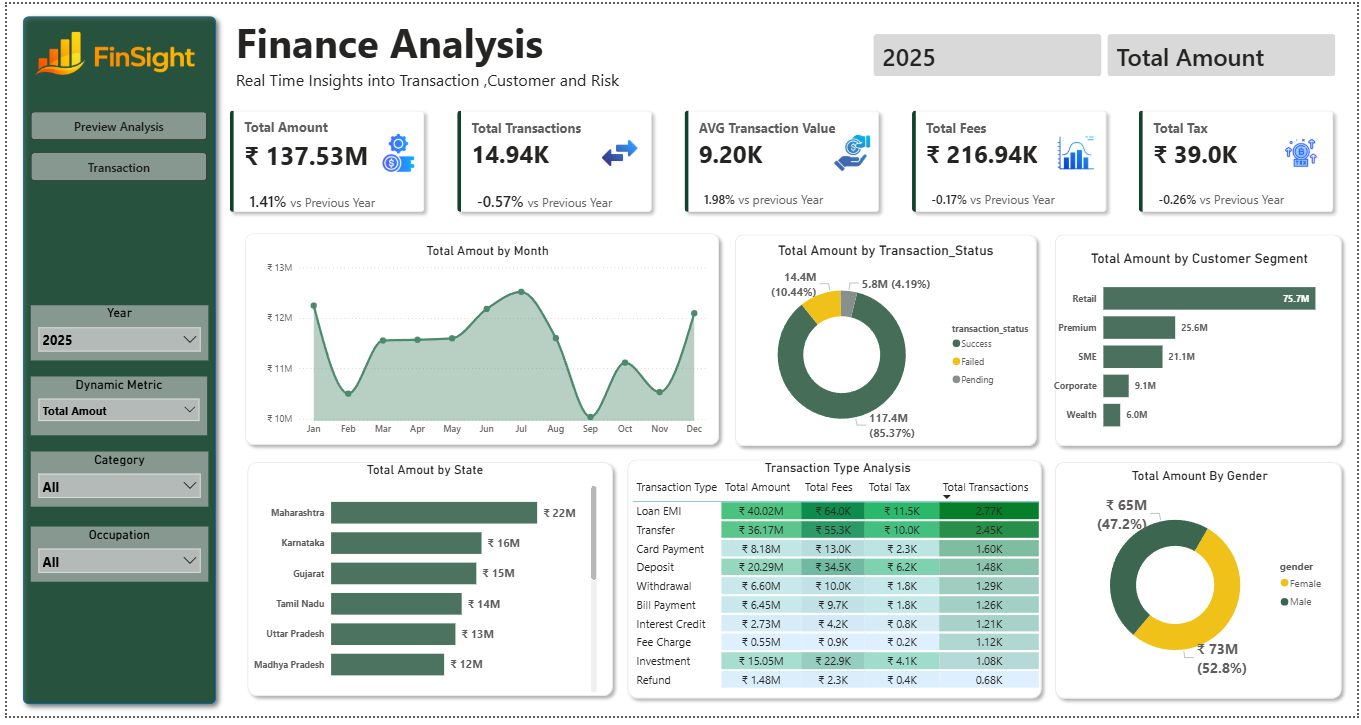

The dashboard page shown, as its layout file describes it:
{"tool":"powerbi","page":{"name":"Preview Analysis","canvas":[1800,950],"ordinal":0},"visuals":[{"type":"shape","title":"Dynamic Metric","box":[10,5,280,940],"z":0},{"type":"image","box":[26.7,23.3,240,86.7],"z":1000},{"type":"textbox","box":[300,10,554,116],"z":2000},{"type":"slicer","title":"Year","fields":{"Values":["Calender_Table.Year"]},"box":[31.7,401.7,236.7,73.3],"z":3000},{"type":"cardVisual","fields":{"Data":["Calender_Table.Total Amout","Calender_Table.Total Transactions","Calender_Table.AVG Transaction Value","Calender_Table.Total Fees","Calender_Table.Total Tax"]},"box":[268.3,113.3,1531.7,193.3],"z":4000},{"type":"image","box":[1700,173.3,50,50],"z":5000},{"type":"image","box":[1101.7,173.3,50,50],"z":6000},{"type":"image","box":[791.7,173.3,50,50],"z":7000},{"type":"image","box":[496.7,173.3,50,50],"z":8000},{"type":"image","box":[1400,173.3,50,50],"z":9000},{"type":"slicer","title":"Dynamic Metric","fields":{"Values":["Dynamic Metric.Dynamic Metric"]},"box":[31.7,496.7,235,78.3],"z":10000},{"type":"shape","box":[308.3,296.7,650,300],"z":11000},{"type":"cardVisual","fields":{"Data":["Calender_Table.Select Year","Min(Dynamic Metric.Dynamic Title)"]},"box":[1138.3,23.3,650,90],"z":13000},{"type":"shape","box":[962,298,420,300],"z":14000},{"type":"shape","box":[1388,298,400,300],"z":15000},{"type":"donutChart","title":"Total Amount by Transaction_Status","fields":{"Y":["Calender_Table.Total Amout"],"Category":["finance_transactions.transaction_status"]},"box":[962,318,420,278],"z":16000},{"type":"barChart","title":"Total Amount by Customer Segment","fields":{"Category":["customers.customer_segment"],"Y":["Calender_Table.Total Amout"]},"box":[1390,328.3,400,256.7],"z":17000},{"type":"shape","box":[311.7,601.7,505,330],"z":18000},{"type":"barChart","title":"Total Amout by State","fields":{"Y":["Calender_Table.Total Amout"],"Category":["customers.state"]},"box":[323.3,610,468.3,313.3],"z":19000},{"type":"shape","box":[818.8,597.5,570,336.2],"z":20000},{"type":"shape","box":[1388.3,601.7,400,333.3],"z":21000},{"type":"tableEx","title":"Transaction Type Analysis","fields":{"Values":["finance_transactions.transaction_type","Calender_Table.Total Amout","Calender_Table.Total Fees","Calender_Table.Total Tax","Calender_Table.Total Transactions"]},"box":[833.8,607.5,548.8,323.8],"z":22000},{"type":"donutChart","title":"Total Amount By Gender","fields":{"Category":["customers.gender"],"Y":["Calender_Table.Total Amout"]},"box":[1413.8,617.5,353.8,293.8],"z":23000},{"type":"slicer","title":"Occupation","fields":{"Values":["customers.occupation"]},"box":[31.7,696.7,236.7,73.3],"z":24000},{"type":"slicer","title":"Category","fields":{"Values":["finance_transactions.merchant_category"]},"box":[31.7,596.7,236.7,73.3],"z":25000},{"type":"pageNavigator","box":[31.7,143.3,235,93.3],"z":26000},{"type":"areaChart","fields":{"Y":["Calender_Table.Total Amount"],"Category":["Calender_Table.Month"]},"box":[341.7,318.3,598.3,266.7],"z":26001}]}

Visuals, with their boxes on the page's 1800x950 design canvas (x1, y1, x2, y2). These are canvas units, not pixel positions in the 1361x725 screenshot, which may show the page scaled, cropped or inside an application window:
"Dynamic Metric" shape: locate(10, 5, 290, 945)
image: locate(27, 23, 267, 110)
textbox: locate(300, 10, 854, 126)
"Year" slicer: locate(32, 402, 268, 475)
cardVisual - Calender_Table.Total Amout x Calender_Table.Total Transactions: locate(268, 113, 1800, 307)
image: locate(1700, 173, 1750, 223)
image: locate(1102, 173, 1152, 223)
image: locate(792, 173, 842, 223)
image: locate(497, 173, 547, 223)
image: locate(1400, 173, 1450, 223)
"Dynamic Metric" slicer: locate(32, 497, 267, 575)
shape: locate(308, 297, 958, 597)
cardVisual - Calender_Table.Select Year x Min(Dynamic Metric.Dynamic Title): locate(1138, 23, 1788, 113)
shape: locate(962, 298, 1382, 598)
shape: locate(1388, 298, 1788, 598)
"Total Amount by Transaction_Status" donutChart: locate(962, 318, 1382, 596)
"Total Amount by Customer Segment" barChart: locate(1390, 328, 1790, 585)
shape: locate(312, 602, 817, 932)
"Total Amout by State" barChart: locate(323, 610, 792, 923)
shape: locate(819, 598, 1389, 934)
shape: locate(1388, 602, 1788, 935)
"Transaction Type Analysis" tableEx: locate(834, 608, 1383, 931)
"Total Amount By Gender" donutChart: locate(1414, 618, 1768, 911)
"Occupation" slicer: locate(32, 697, 268, 770)
"Category" slicer: locate(32, 597, 268, 670)
pageNavigator: locate(32, 143, 267, 237)
areaChart - Calender_Table.Total Amount x Calender_Table.Month: locate(342, 318, 940, 585)
